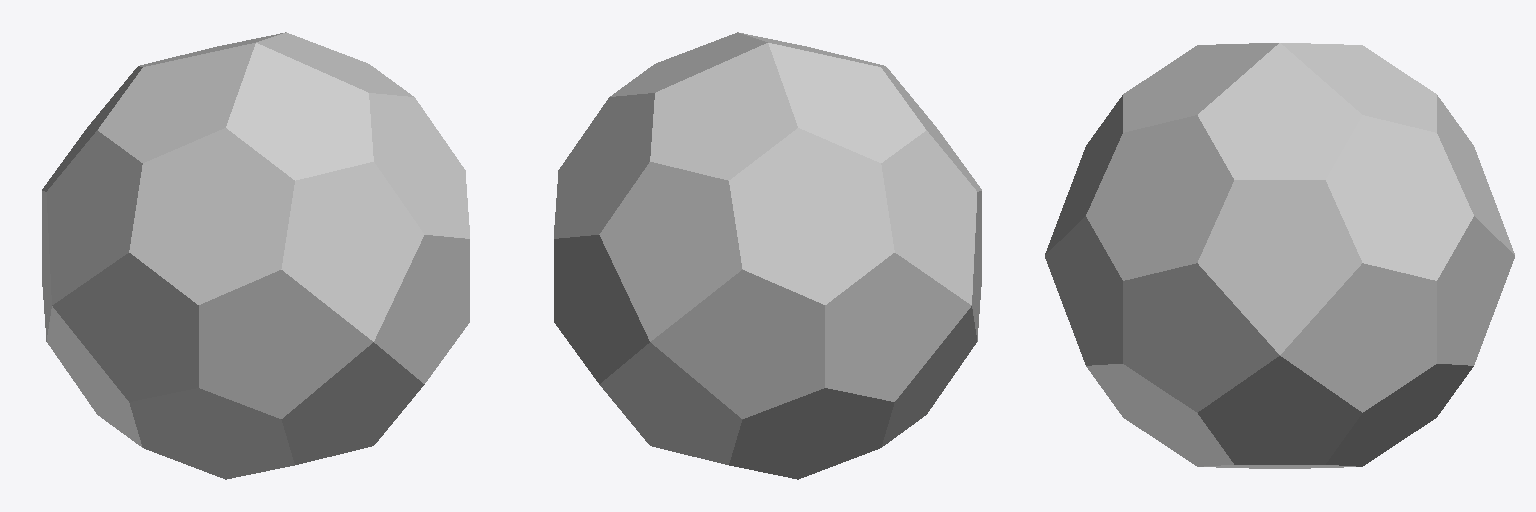
The model's file is hexahedron104.obj.
3 renders of one model, left to right at view 1: azimuth 30°, elevation 25°; view 2: azimuth 150°, elevation 25°; view 3: azimuth 270°, elevation 25°, orthographic.
Parts seen in each view (by area): view 1: STL object; view 2: STL object; view 3: STL object.
Boxes of the visible parts, x1=… form: STL object: x1=42, y1=32, x2=469, y2=479; STL object: x1=554, y1=32, x2=981, y2=479; STL object: x1=1045, y1=43, x2=1514, y2=468.
Size of the model in its own units: 5.17 by 5.17 by 5.17.